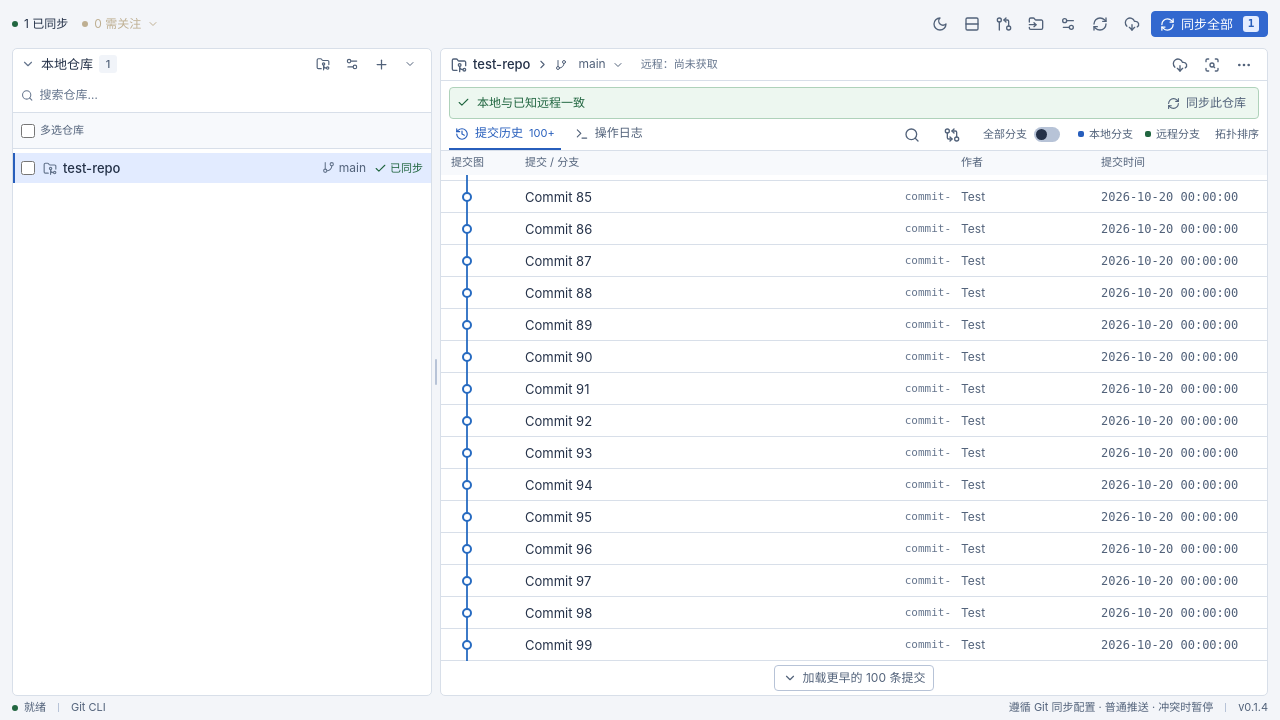
ignores a late all-branches resolve after returning to current history
The width and height of the screenshot is (1280, 720).
(page scrolled)
Expected: the text "100+" is shown, [529,126,555,141]
Click the switch named "显示全部分支" at (1022, 134), box [979,122,1064,148]
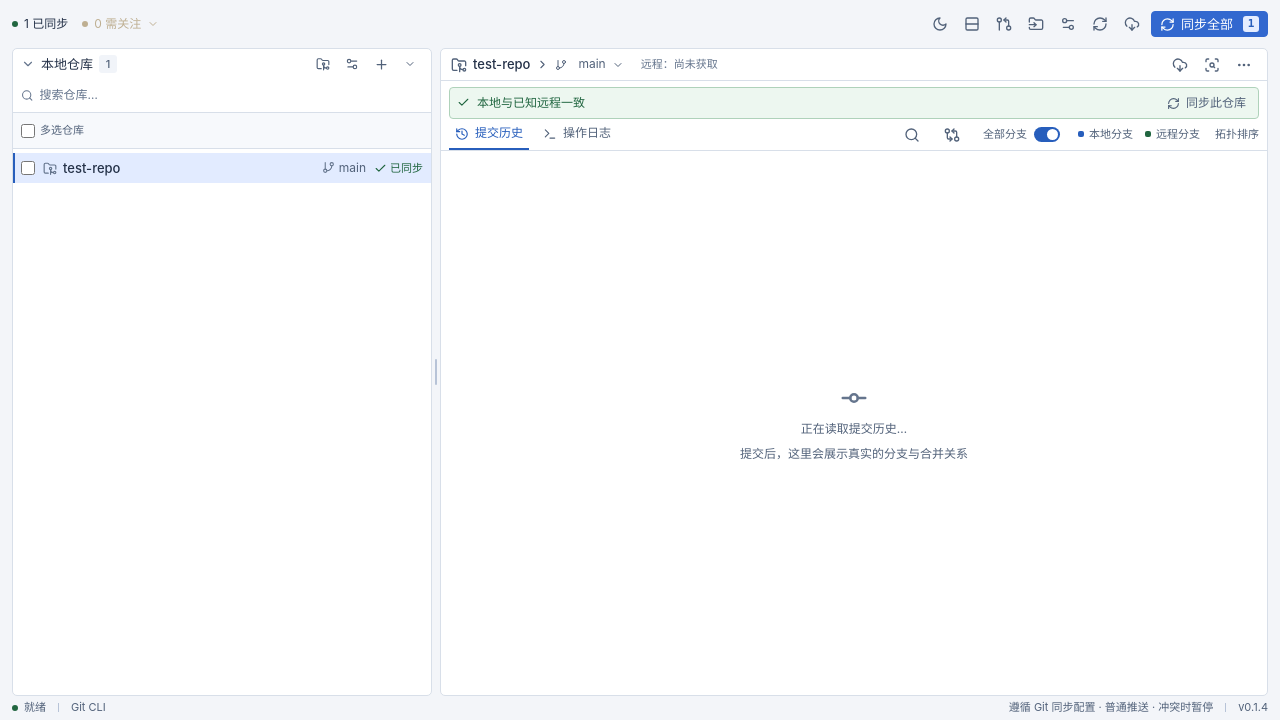
Now the text "正在读取提交历史…" is shown, box [801,421,907,438]
Click the switch named "显示全部分支" at (1022, 134), box [979,122,1064,148]
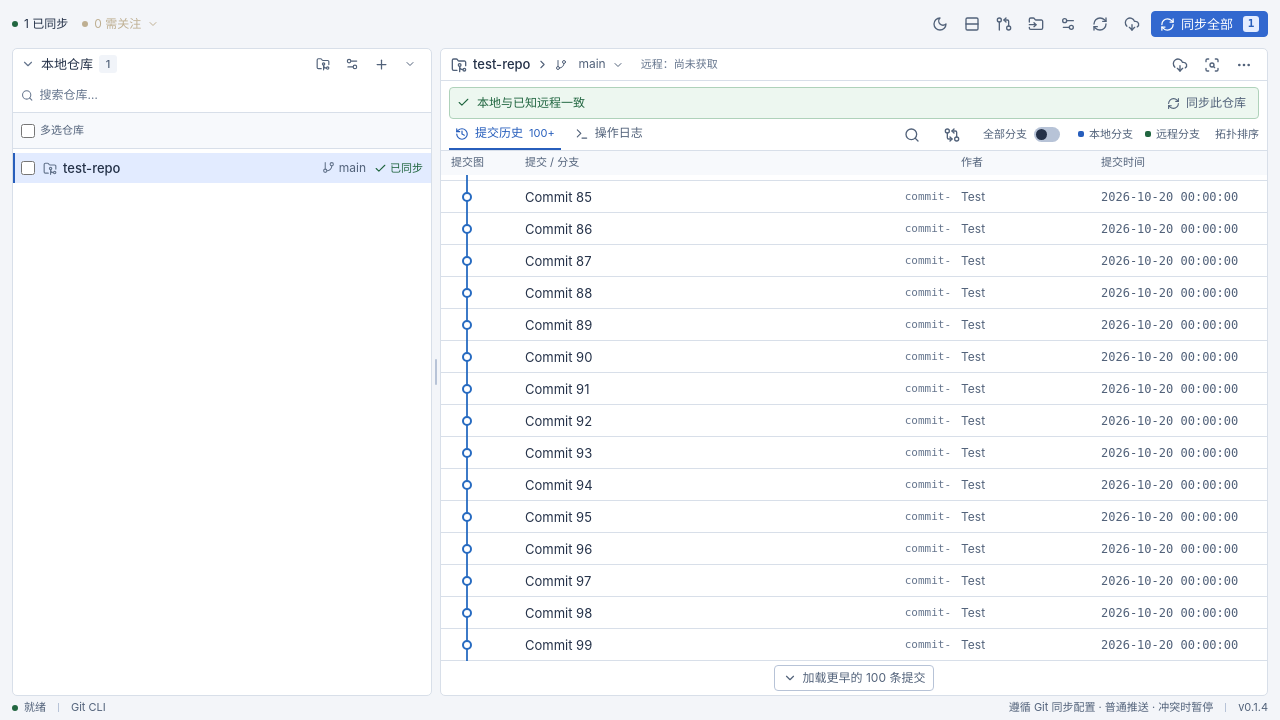
Now the text "100+" is shown, box [529,126,555,141]
